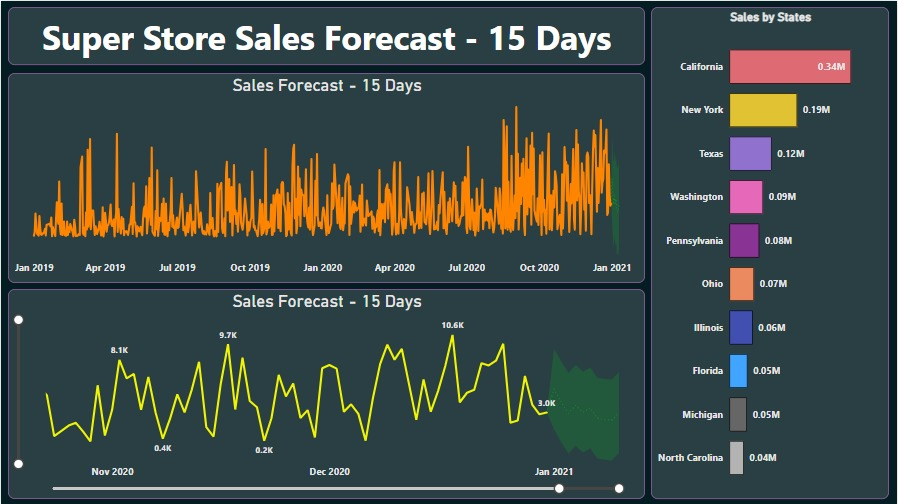

What the dashboard file says about the page in this screenshot:
{"tool":"powerbi","page":{"name":"Forecast 15 Days","canvas":[1280,720],"ordinal":1},"visuals":[{"type":"lineChart","title":"Sales Forecast - 15 Days","fields":{"Y":["Sum(Sheet1.Sales)"],"Category":["Sheet1.Order Date"]},"box":[10,103.3,910,300],"z":0},{"type":"lineChart","title":"Sales Forecast - 15 Days","fields":{"Y":["Sum(Sheet1.Sales)"],"Category":["Sheet1.Order Date"]},"box":[10,411.7,910,300],"z":1000},{"type":"clusteredBarChart","title":"Sales by States","fields":{"Y":["Sum(Sheet1.Sales)"],"Category":["Sheet1.State"]},"box":[928.3,8.3,340,703.3],"z":2000},{"type":"textbox","box":[10,8.3,910,83.3],"z":3000}]}

Visuals, with their boxes in screenshot pixels (x1, y1, x2, y2), scaled from the page's 1280x720 canvas onto the 898x504 screenshot:
"Sales Forecast - 15 Days" lineChart: Rect(7, 72, 645, 282)
"Sales Forecast - 15 Days" lineChart: Rect(7, 288, 645, 498)
"Sales by States" clusteredBarChart: Rect(651, 6, 890, 498)
textbox: Rect(7, 6, 645, 64)
